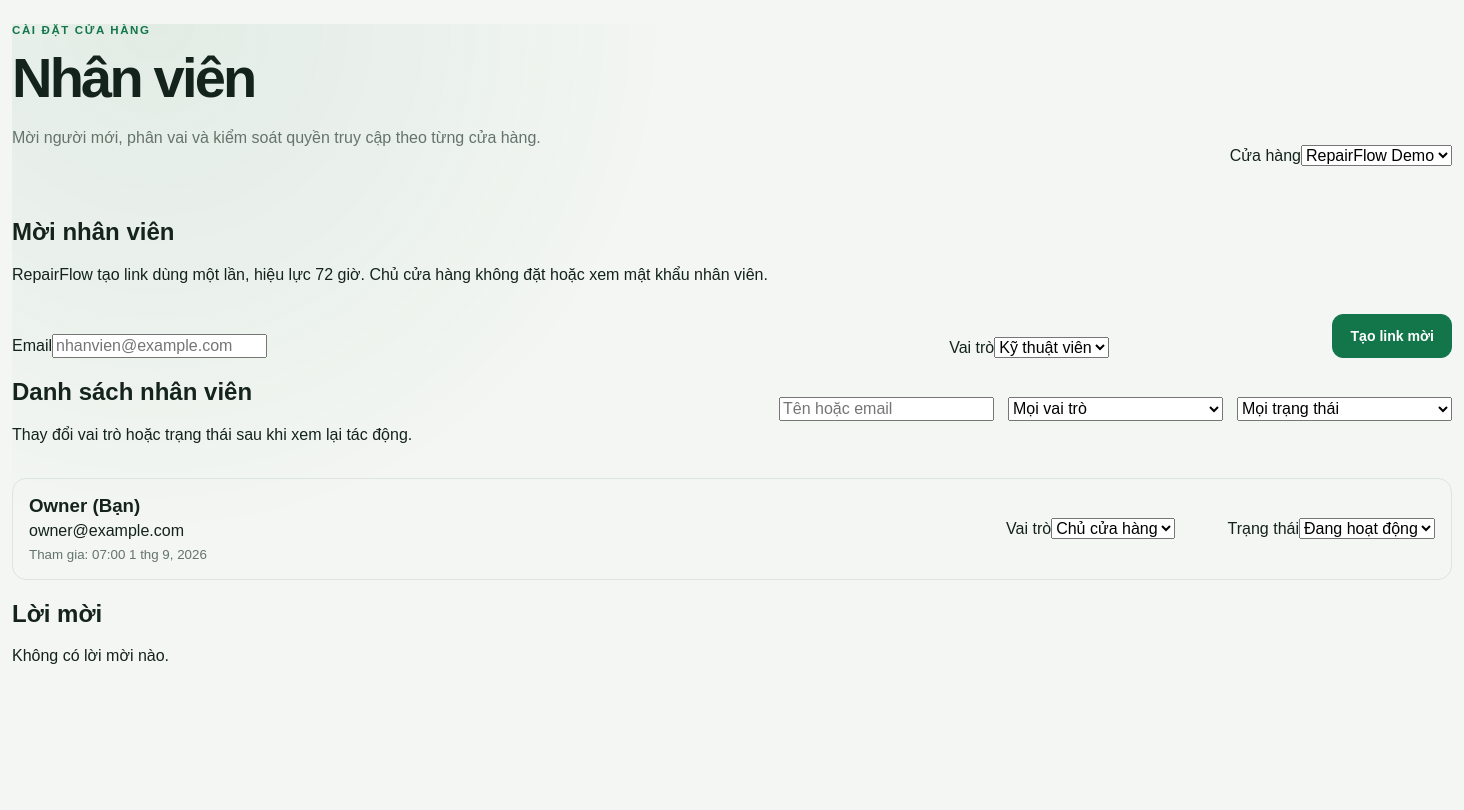
Test: StaffMembershipSettings › lets an owner create and copy a technician setup link
Expected: the heading "Owner (Bạn)" is shown, [29,495,140,516]
Type "tech@example.com" into the field with placeholder "nhanvien@example.com" at (160,346), box [52,334,267,358]
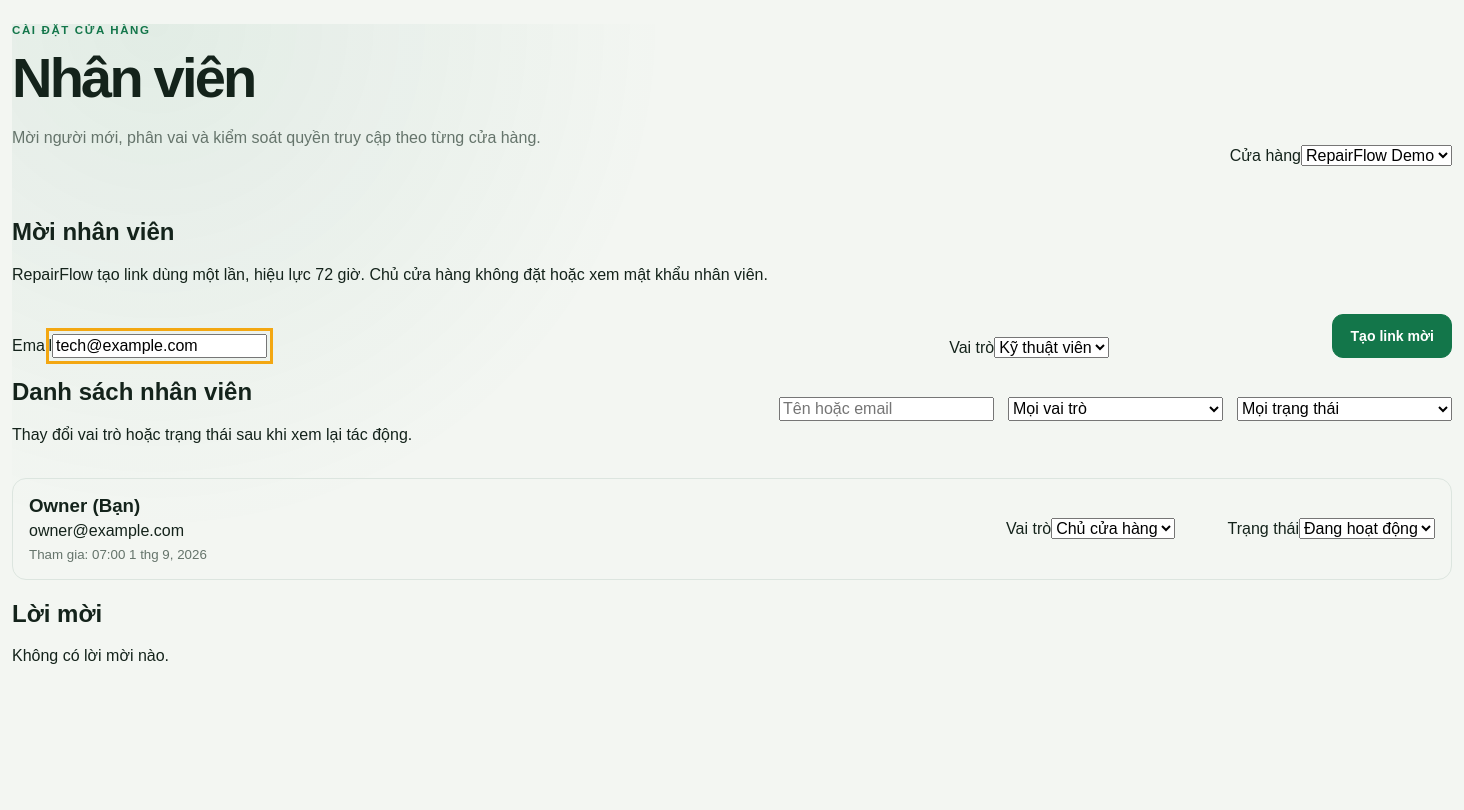
Click the button "Tạo link mời" at (1392,336), box [1332,314,1452,358]
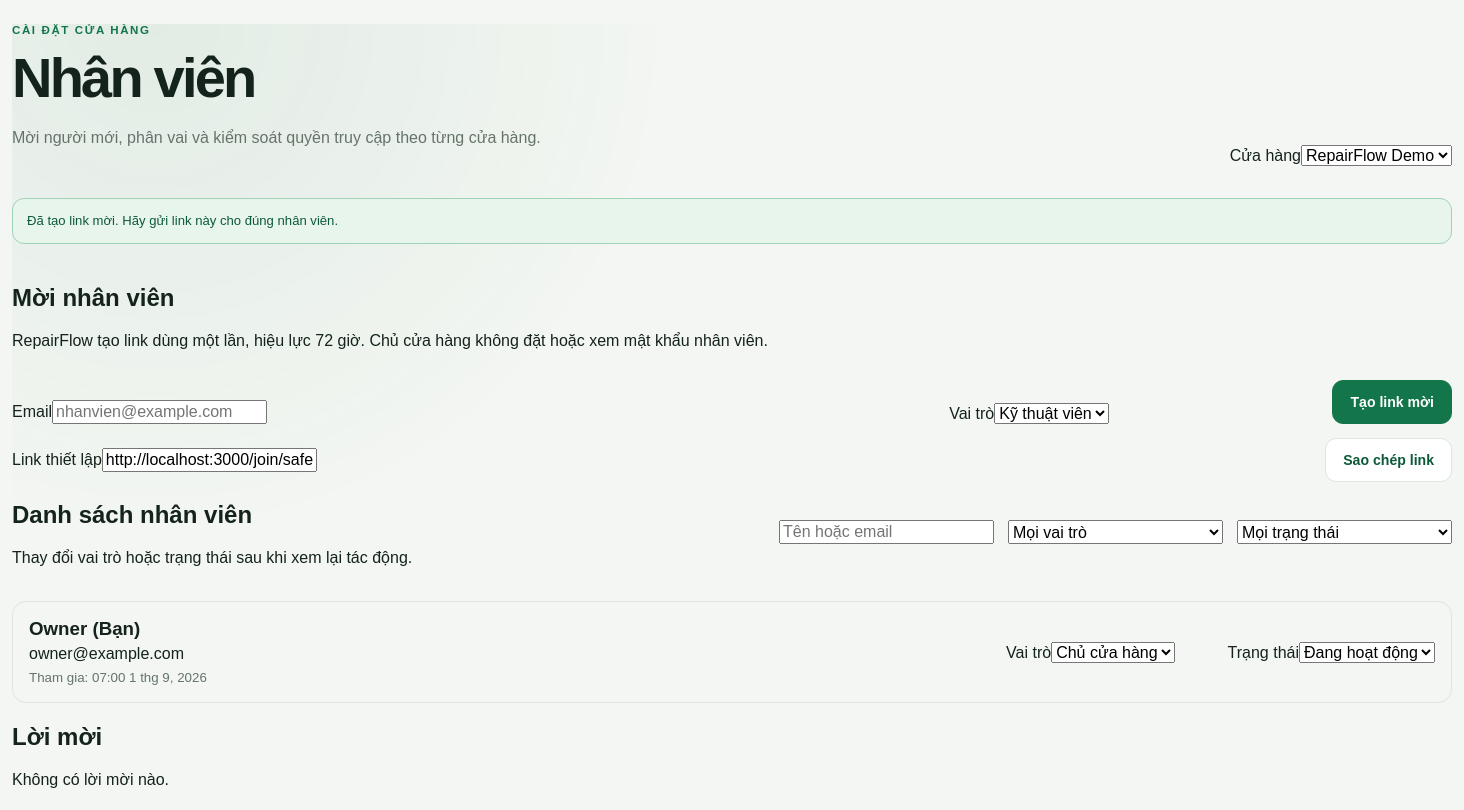
Result: the field showing "http://localhost:3000/join/safe-token" is shown at [102,448,317,472]
